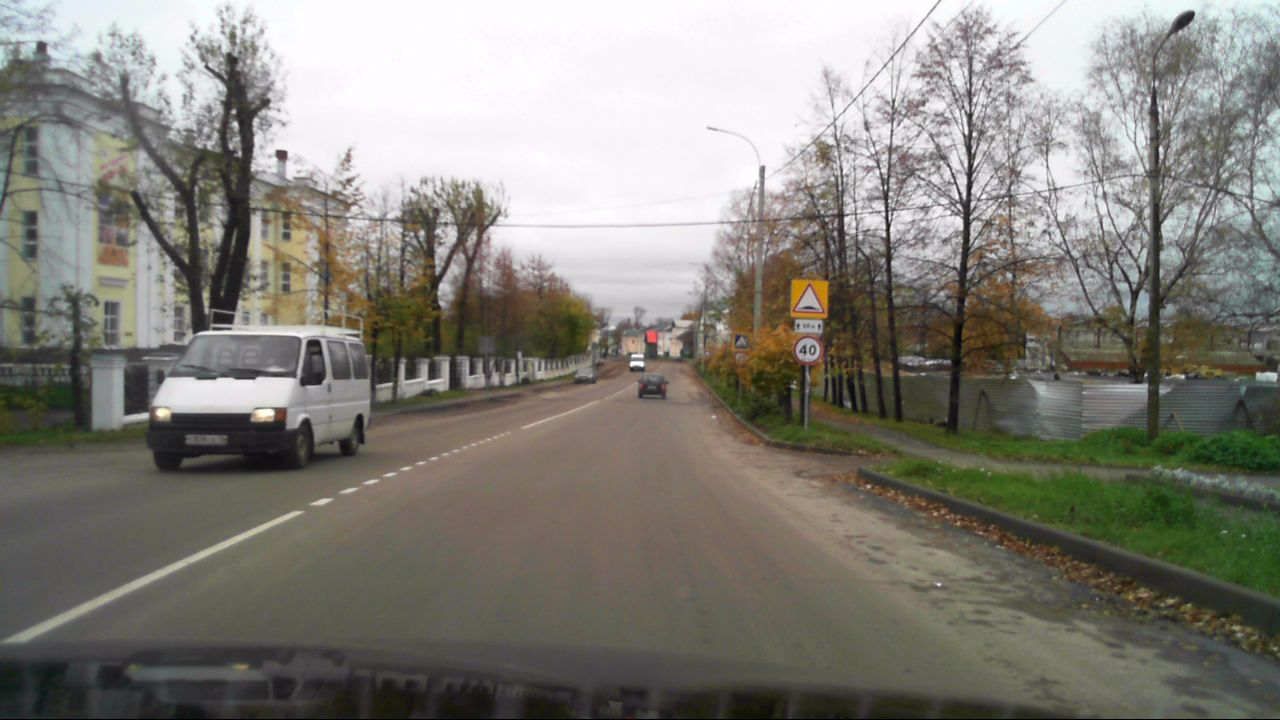speed_warning_40: (793, 336, 821, 364)
